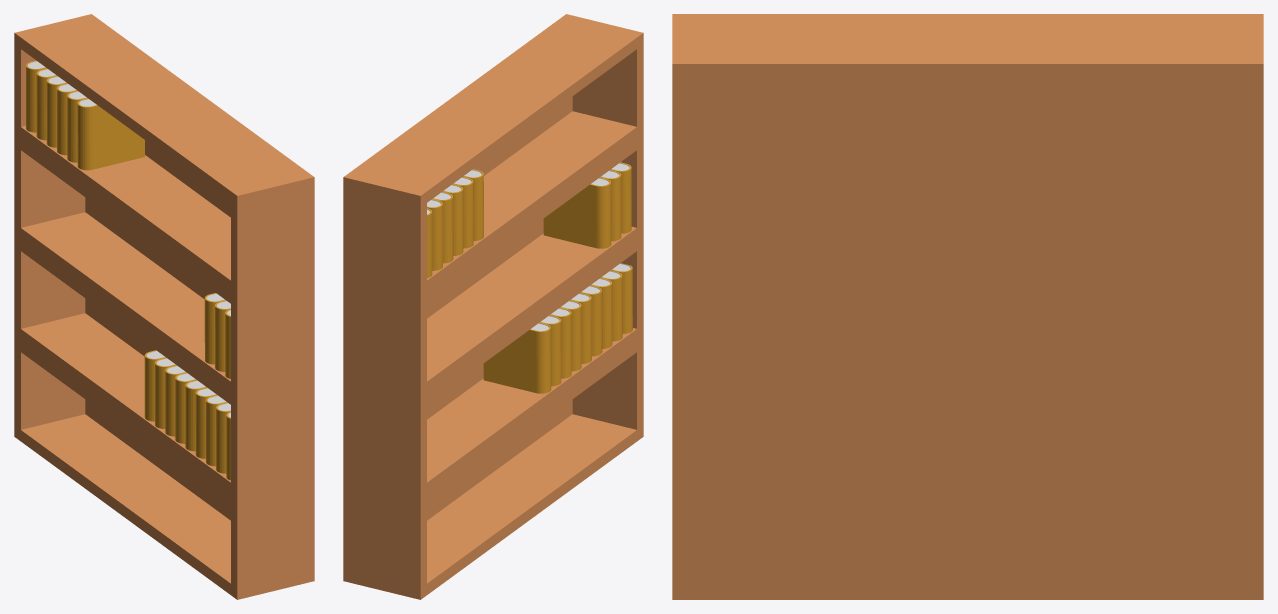
The model's file is libreroAmarillo.glb.
3 views of the same model, side by side, from view 1: azimuth 30°, elevation 25°; view 2: azimuth 150°, elevation 25°; view 3: azimuth 270°, elevation 25° (orthographic). The views are drawn at different scales.
Visible parts, largest first — view 1: Librero; view 2: Librero; view 3: Librero.
Part boxes in pixels (bbox=[...]): Librero: bbox=[14, 14, 314, 599]; Librero: bbox=[343, 14, 643, 599]; Librero: bbox=[672, 14, 1263, 599].
Bounding box in the file's own units: 0.67 × 3.35 × 3.35.
